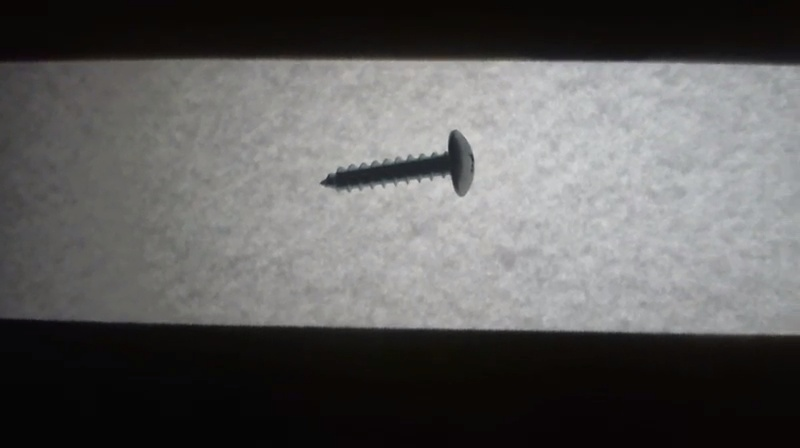S003: (317, 127, 479, 197)
